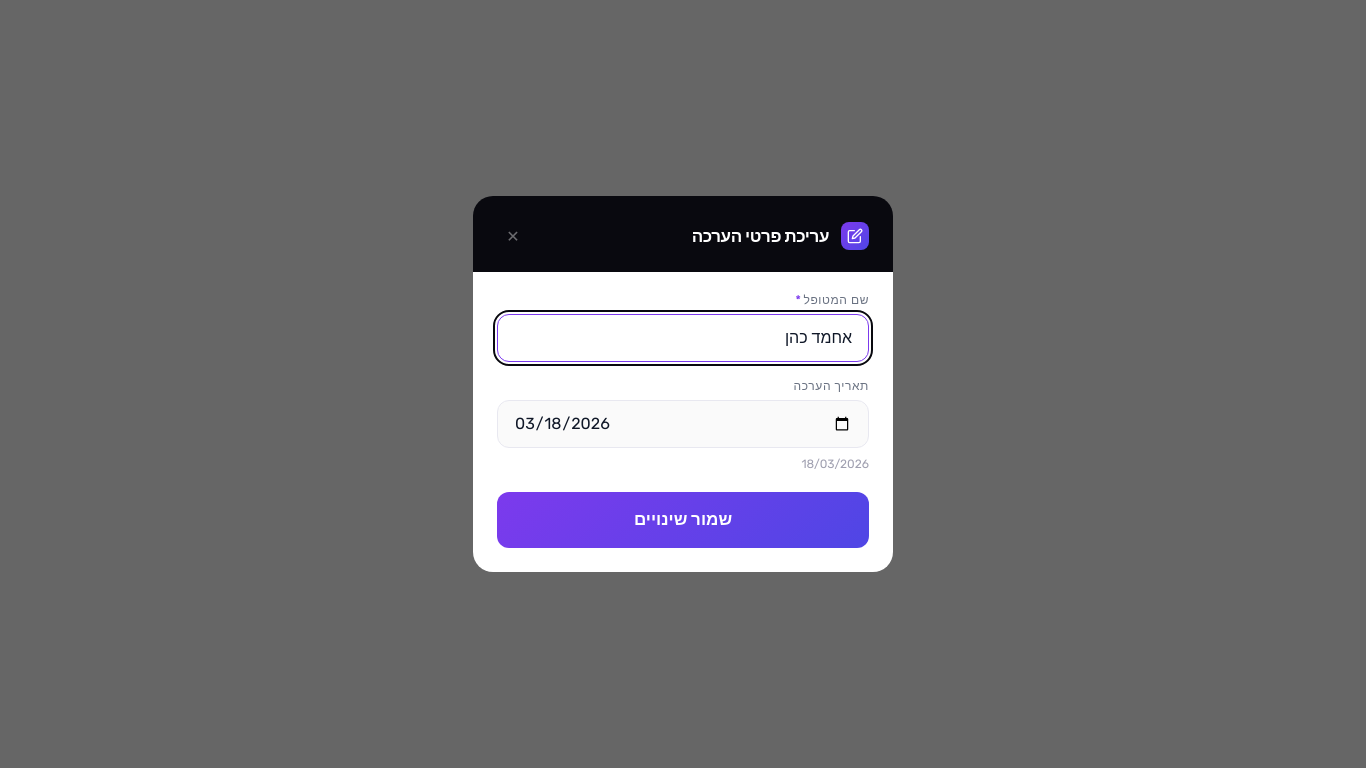
it: EditAssessmentModal › shows validation error when submitting with empty patient name
The image size is (1366, 768).
Clear the field labelled "שם המטופל*": (683, 338) [497,314,869,362]
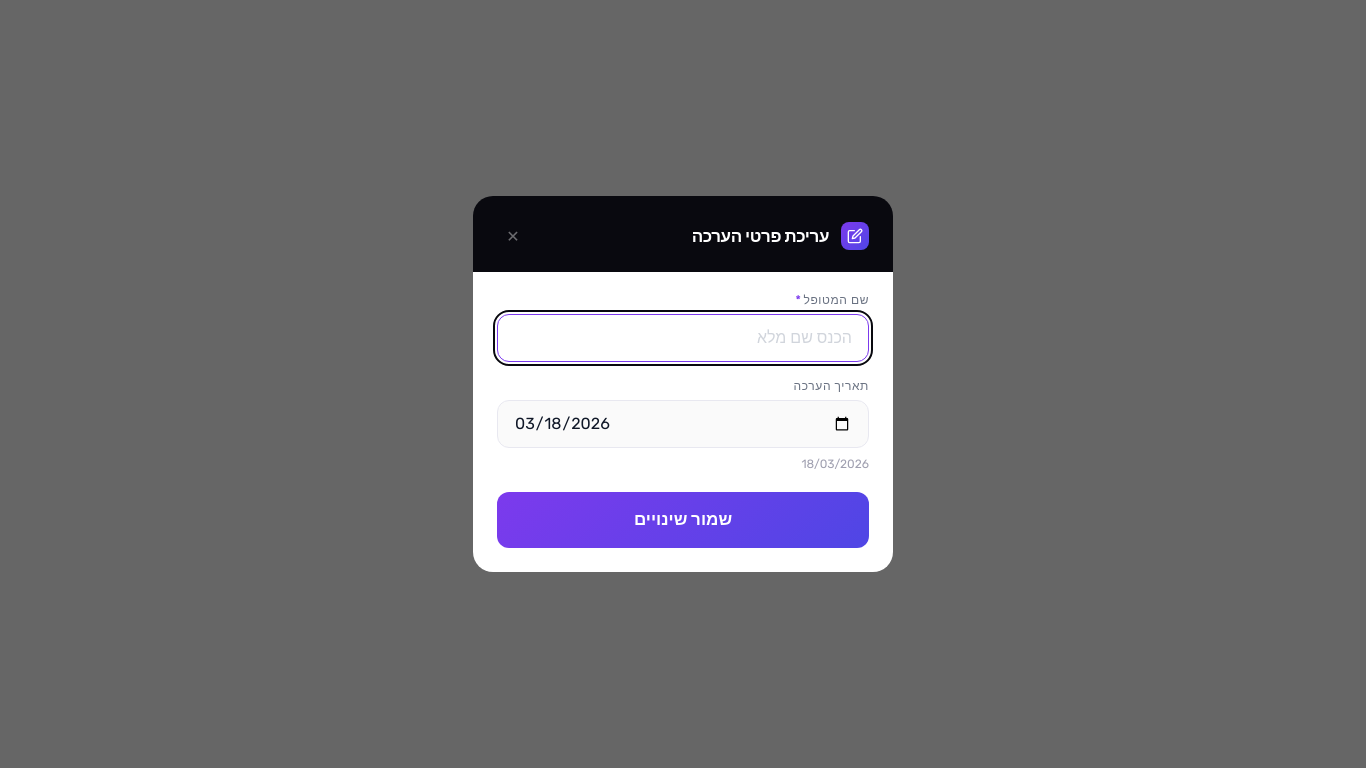
Click the button "שמור שינויים": (683, 520) [497,492,869,548]
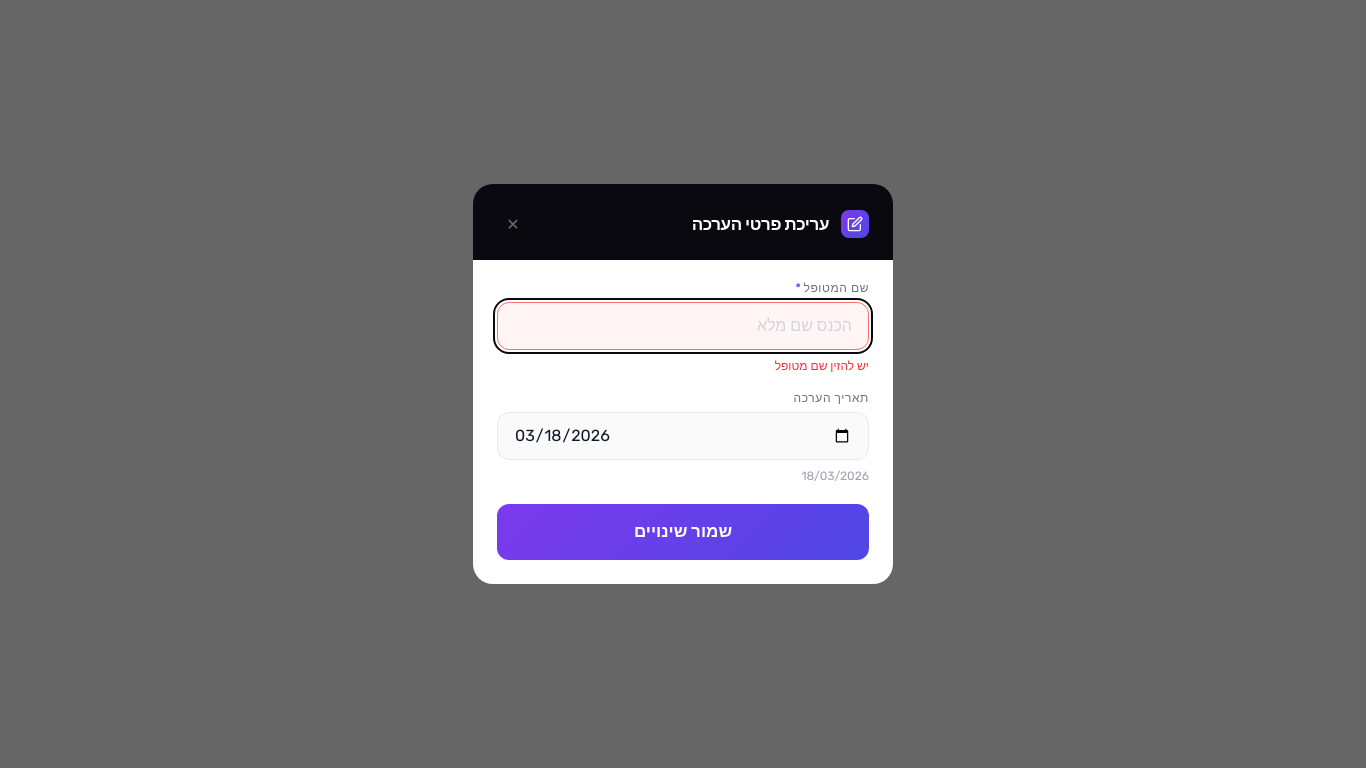
Expected: the message reads "יש להזין שם מטופל", [775,359,869,373]
